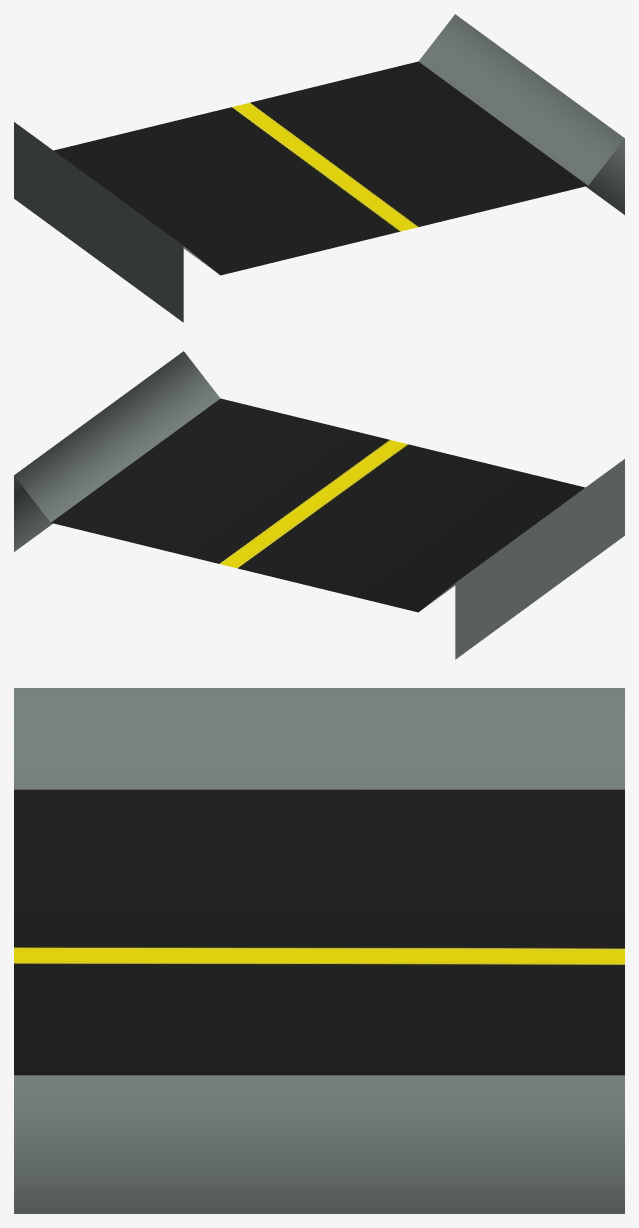
The model's file is lane_straight_8.fbx.
3 renders of one model, top to bottom at view 1: azimuth 30°, elevation 25°; view 2: azimuth 150°, elevation 25°; view 3: azimuth 270°, elevation 25°, orthographic. The views are drawn at different scales.
Visible parts, largest first — view 1: lane_straight_8_01; view 2: lane_straight_8_01; view 3: lane_straight_8_01.
Boxes of the visible parts, <box> form: lane_straight_8_01: <box>14,14,624,322</box>; lane_straight_8_01: <box>14,351,624,659</box>; lane_straight_8_01: <box>14,688,624,1213</box>.
Size of the model in its own units: 24 by 4 by 16.
